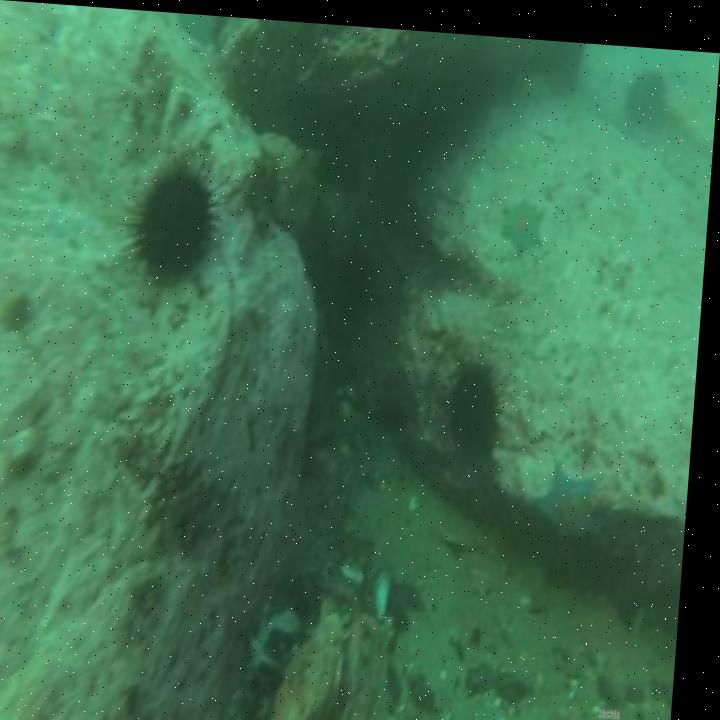echinus: (139, 171, 218, 280), (458, 355, 506, 448), (337, 241, 375, 321), (624, 60, 669, 117)
starfish: (541, 456, 607, 538), (504, 187, 545, 246), (247, 163, 281, 225)
